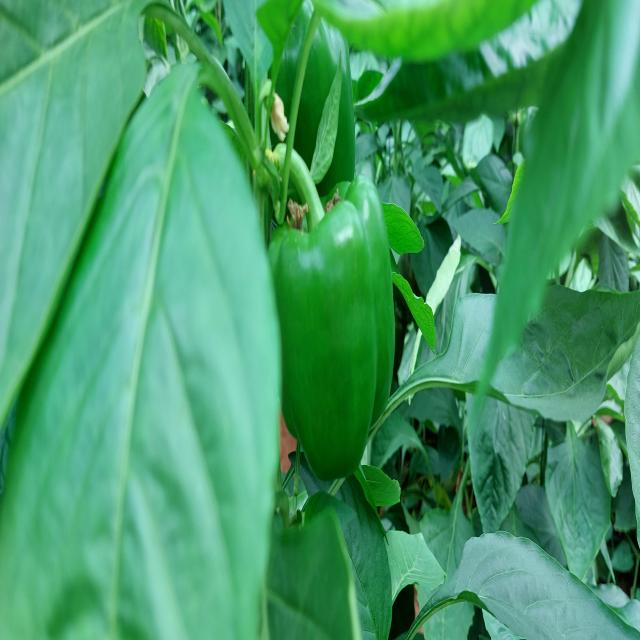Green--Not-ready-to-harvest: (266, 174, 393, 474), (257, 6, 356, 190)
